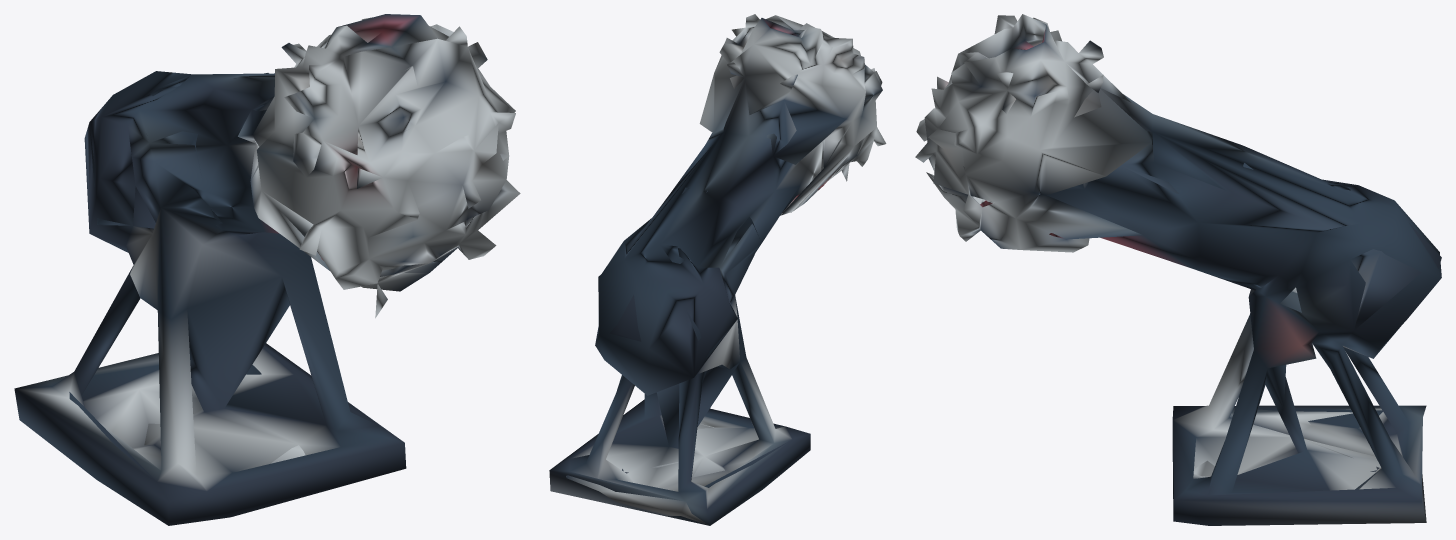
The model's file is gen3d-snow-cannon-lod1.glb.
3 views of the same model, side by side, from view 1: azimuth 30°, elevation 25°; view 2: azimuth 150°, elevation 25°; view 3: azimuth 270°, elevation 25° (orthographic). The views are drawn at different scales.
Visible parts, largest first — view 1: part_0; view 2: part_0; view 3: part_0.
Boxes of the visible parts, bbox=[...] form: part_0: bbox=[14, 14, 520, 525]; part_0: bbox=[549, 14, 886, 525]; part_0: bbox=[915, 14, 1441, 525].
Bounding box in the file's own units: 0.4536 × 0.9982 × 1.06.
